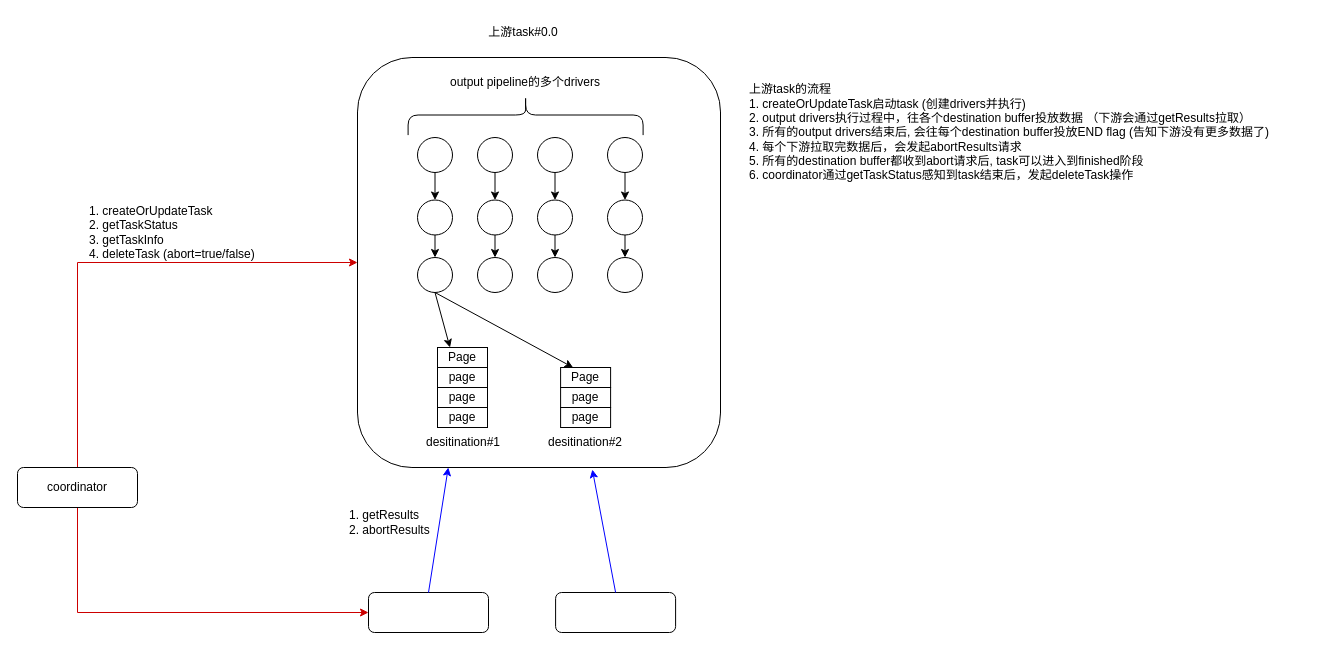
Image size: 1335x650. Some labels were removed from this diagram. The centre of each missing label's shape, as x and y in pixels:
"下游task#1.0" belongs at pixel 428 612.
"下游task#1.1" belongs at pixel 615 612.
